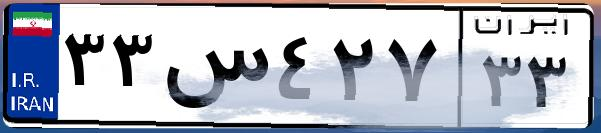2: (330, 28, 385, 110)
3: (57, 26, 110, 100), (475, 38, 525, 113), (525, 38, 570, 115), (110, 28, 158, 98)
4: (270, 28, 330, 110)
7: (385, 28, 445, 110)
س: (158, 20, 270, 120)
